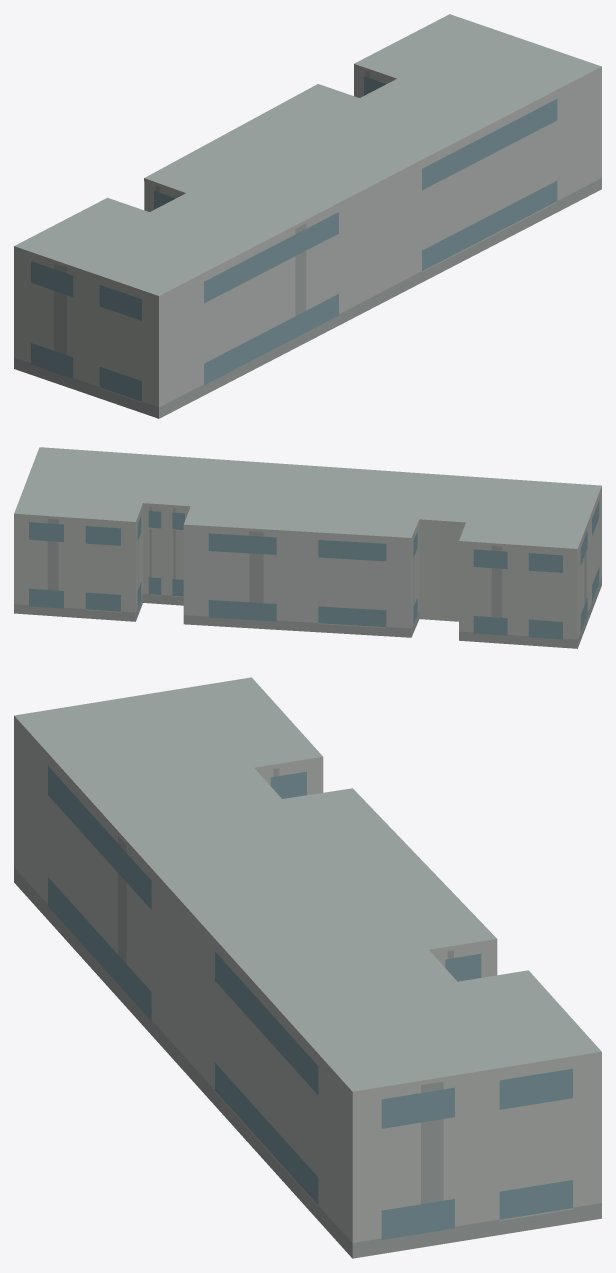
The model's file is residential-b212c5b0-4e96-4392-be2d-4832b5b9b325.glb.
3 renders of one model, top to bottom at view 1: azimuth 30°, elevation 25°; view 2: azimuth 150°, elevation 25°; view 3: azimuth 270°, elevation 25°, orthographic. The views are drawn at different scales.
Visible parts, largest first — view 1: residential-b212c5b0-4e96-4392-be2d-4832b5b9b325.tmp; view 2: residential-b212c5b0-4e96-4392-be2d-4832b5b9b325.tmp; view 3: residential-b212c5b0-4e96-4392-be2d-4832b5b9b325.tmp.
Part boxes in pixels (x1,y1,x2,y2): residential-b212c5b0-4e96-4392-be2d-4832b5b9b325.tmp: [14, 14, 601, 418]; residential-b212c5b0-4e96-4392-be2d-4832b5b9b325.tmp: [14, 447, 601, 648]; residential-b212c5b0-4e96-4392-be2d-4832b5b9b325.tmp: [14, 677, 601, 1258].
Size of the model in its own units: 48.75 by 9.15 by 29.22.
